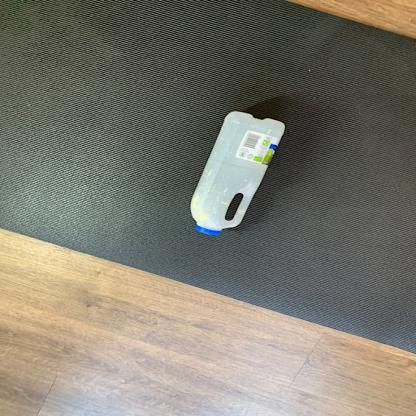trash: (189, 111, 286, 242)
